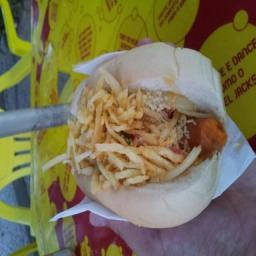hotdog: (187, 115, 231, 157)
